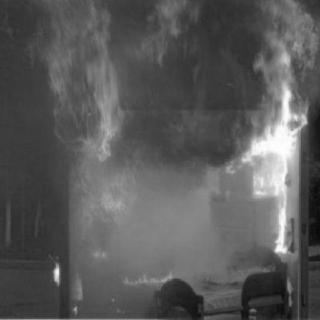Fire: (19, 6, 311, 304)
